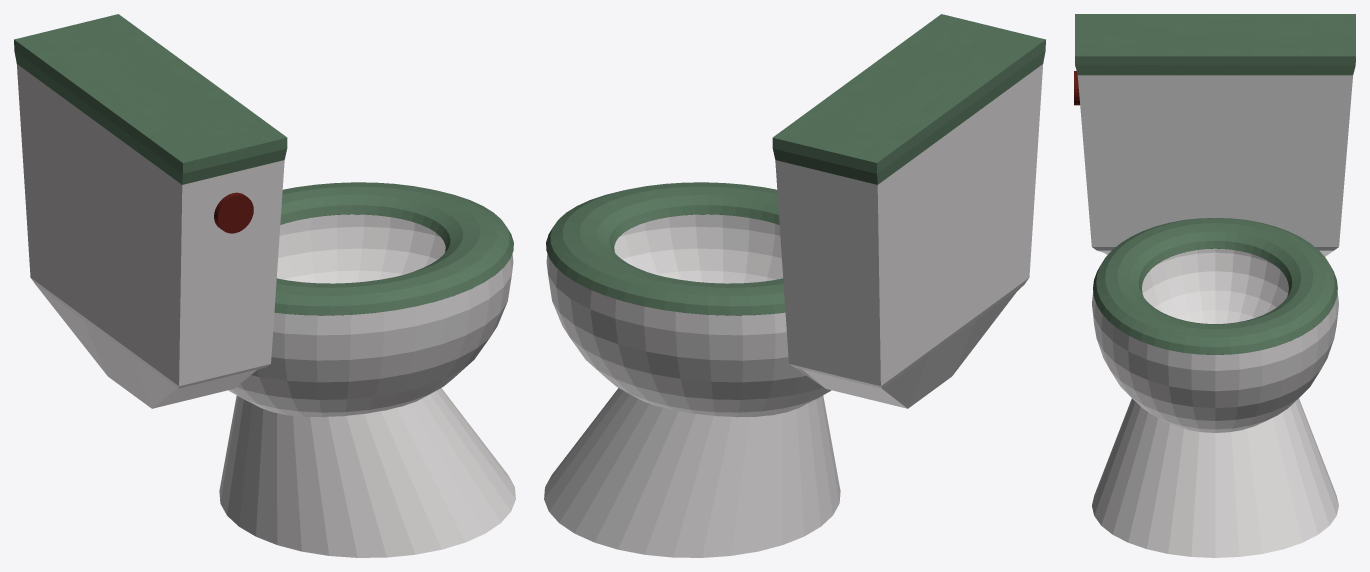
The model's file is toilet.gltf.
3 renders of one model, left to right at view 1: azimuth 30°, elevation 25°; view 2: azimuth 150°, elevation 25°; view 3: azimuth 270°, elevation 25°, orthographic. The views are drawn at different scales.
Visible parts, largest first — view 1: Cube, Base, Bowl, Seat, Button; view 2: Cube, Base, Bowl, Seat; view 3: Cube, Base, Bowl, Seat.
Part boxes in pixels (x1,y1,x2,y2): Cube: [14, 14, 287, 408]; Base: [219, 388, 515, 557]; Bowl: [228, 214, 513, 417]; Seat: [274, 182, 513, 315]; Button: [214, 192, 253, 233]; Cube: [772, 14, 1045, 408]; Base: [544, 388, 840, 557]; Bowl: [546, 214, 831, 417]; Seat: [546, 182, 785, 315]; Cube: [1075, 14, 1355, 256]; Base: [1092, 398, 1338, 557]; Bowl: [1092, 248, 1338, 432]; Seat: [1093, 218, 1337, 354].
Bounding box in the file's own units: 3.1 × 3.41 × 2.28.
3 materials, 1 textured.
